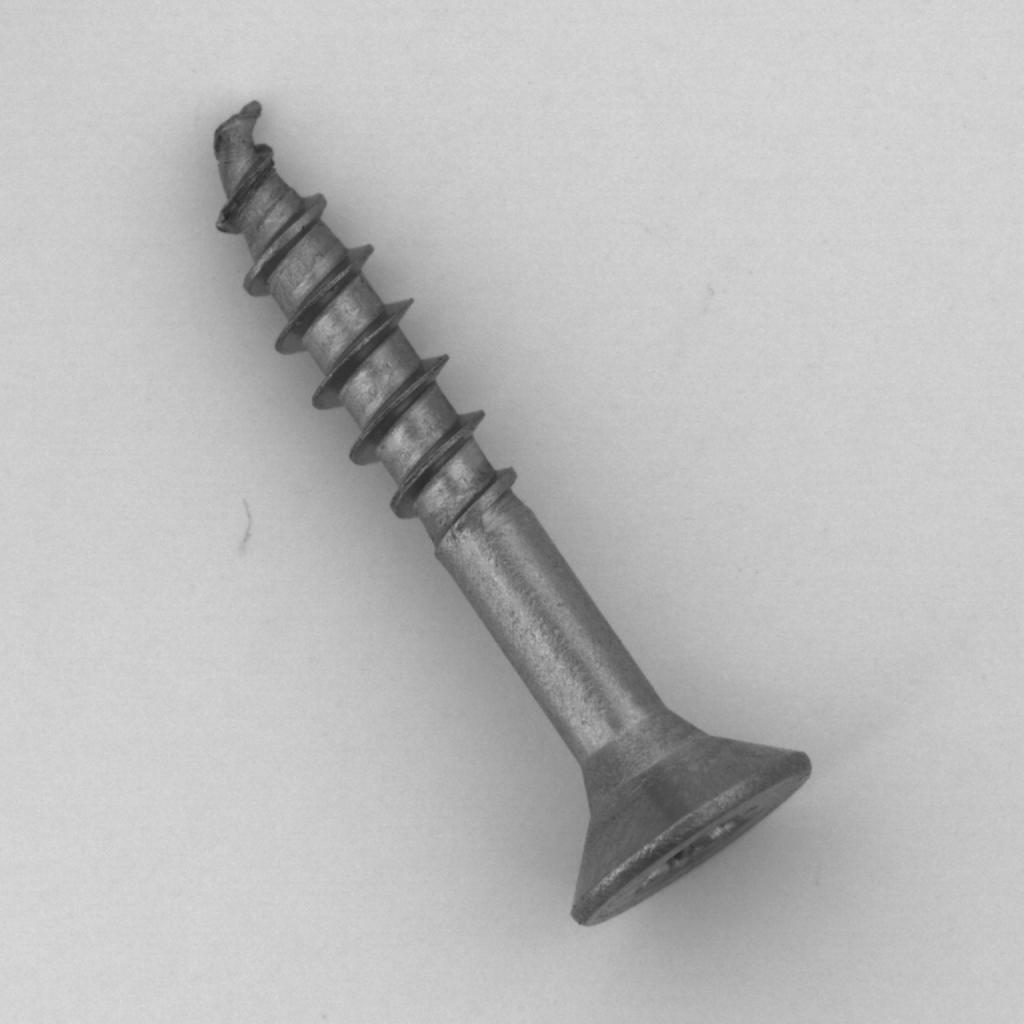manipulated_front: (149, 79, 847, 934)
